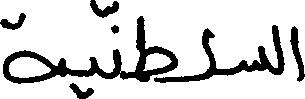X: (0, 8, 58, 88), (135, 11, 175, 87), (201, 23, 216, 84), (241, 41, 266, 76), (291, 21, 304, 86), (89, 0, 96, 98), (273, 20, 283, 79), (113, 0, 120, 82)
